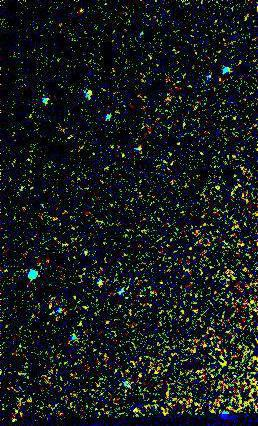star: (76, 79, 106, 109)
